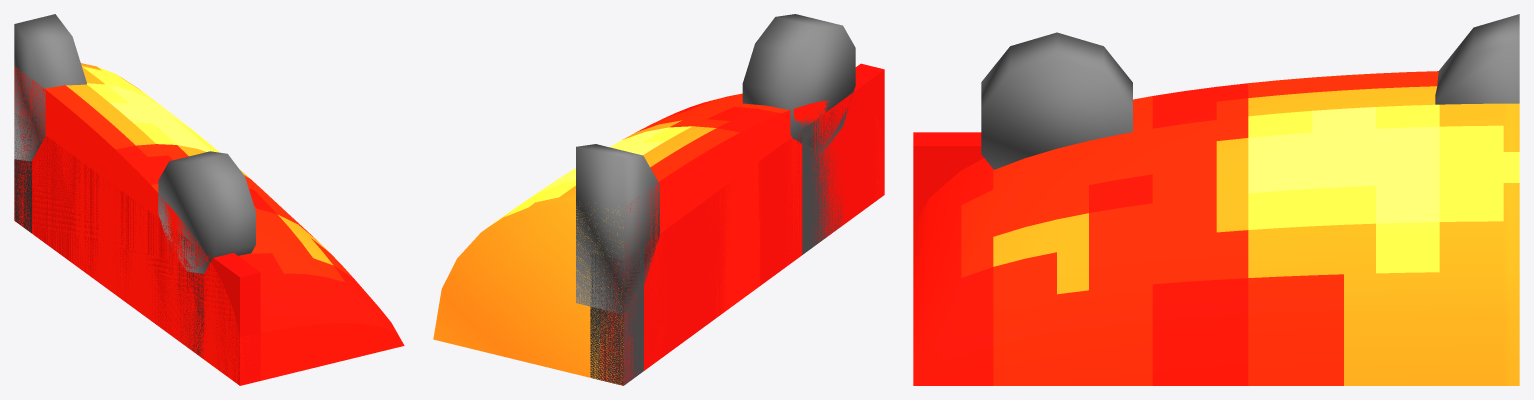
The model's file is newsha-269-f2.glb.
The picture shows the model from 3 angles, left to right: view 1: azimuth 30°, elevation 25°; view 2: azimuth 150°, elevation 25°; view 3: azimuth 270°, elevation 25°; orthographic projection. The views are drawn at different scales.
Visible parts, largest first — view 1: newsha-269-f2; view 2: newsha-269-f2; view 3: newsha-269-f2.
Part boxes in pixels (x1,y1,x2,y2): newsha-269-f2: (14,14,404,385); newsha-269-f2: (433,14,884,385); newsha-269-f2: (913,14,1519,385).
Bounding box in the file's own units: 0.6667 × 0.7615 × 1.58.
